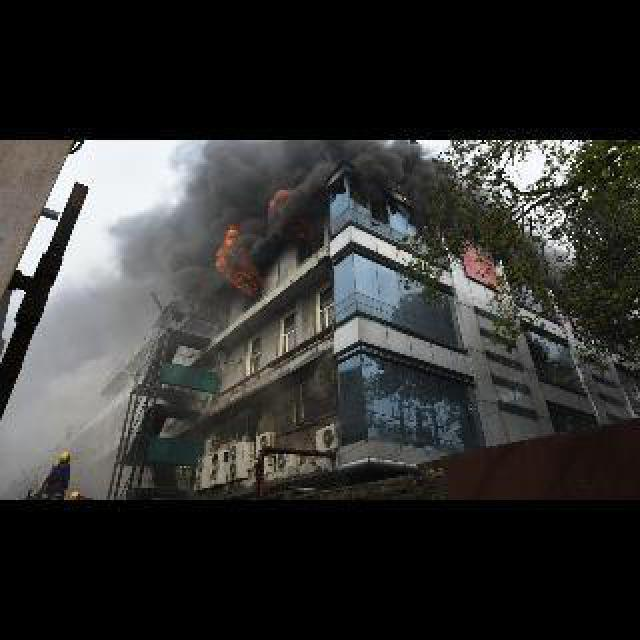Fire: (212, 222, 262, 300)
Smoke: (184, 140, 464, 220), (78, 204, 216, 336)
